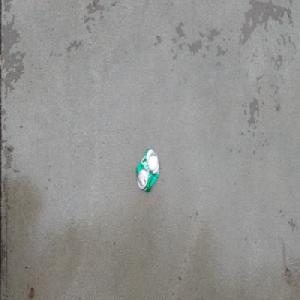SodaCan: (135, 146, 160, 194)
